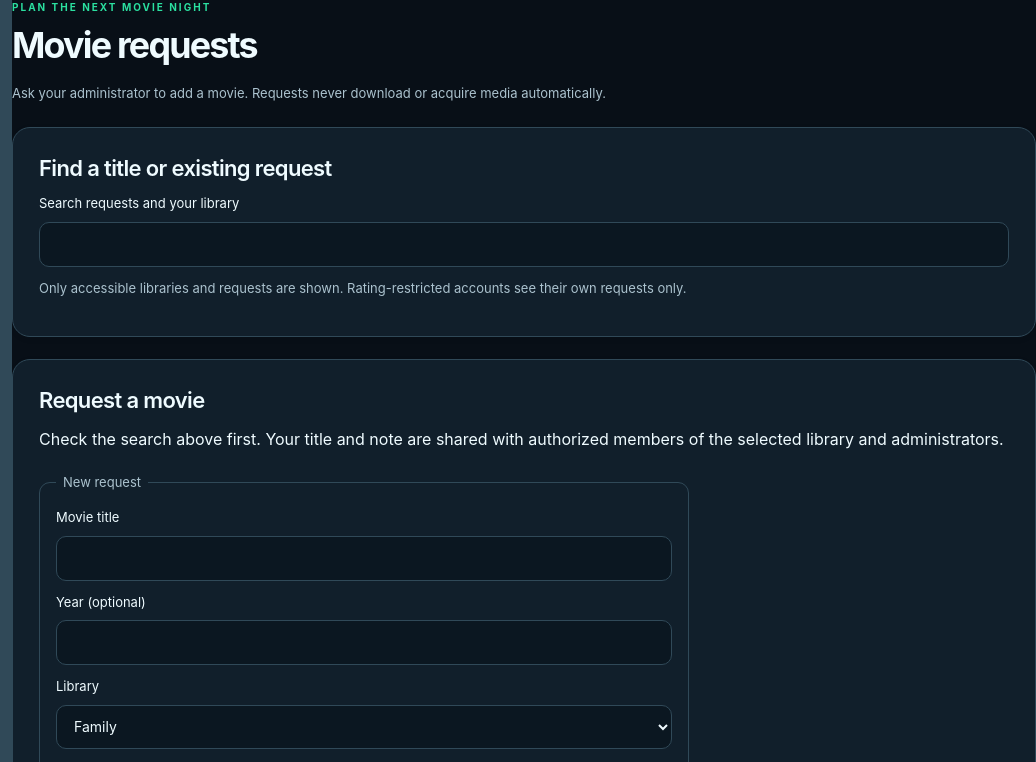
Scenario: submits a real request with scoped library and optional fields
Type "Another movie" into the field labelled "Movie title" at (364, 558), box [56, 536, 672, 581]
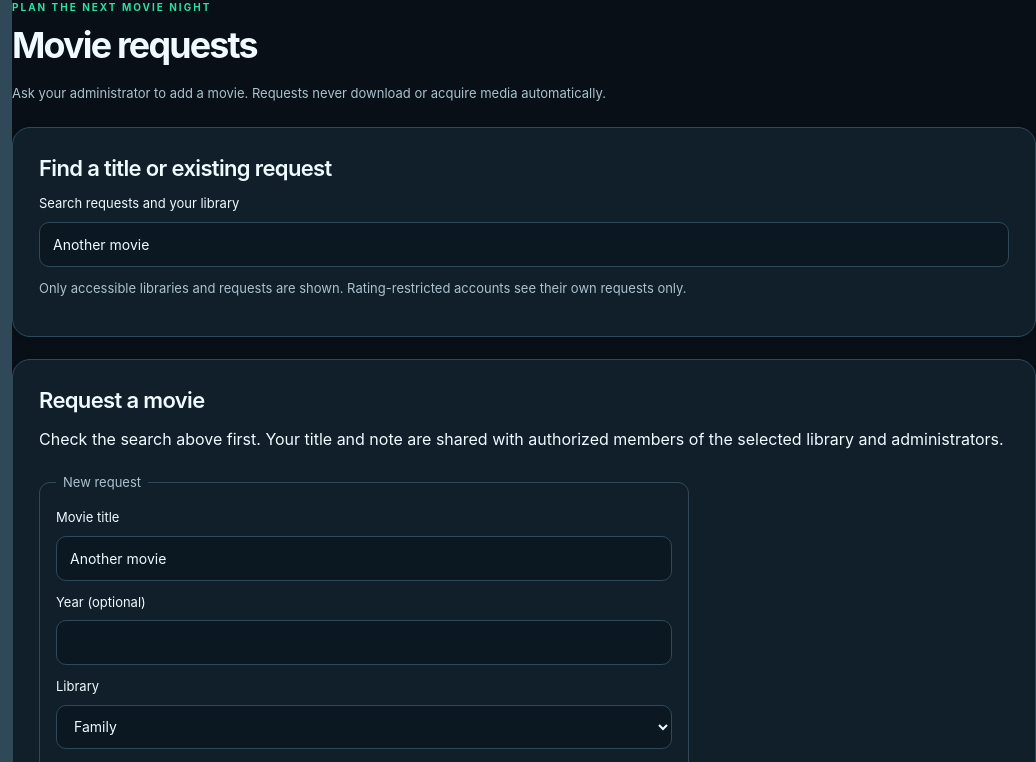
Type "2025" into the number field labelled "Year (optional)" at (364, 643), box [56, 620, 672, 666]
(page scrolled)
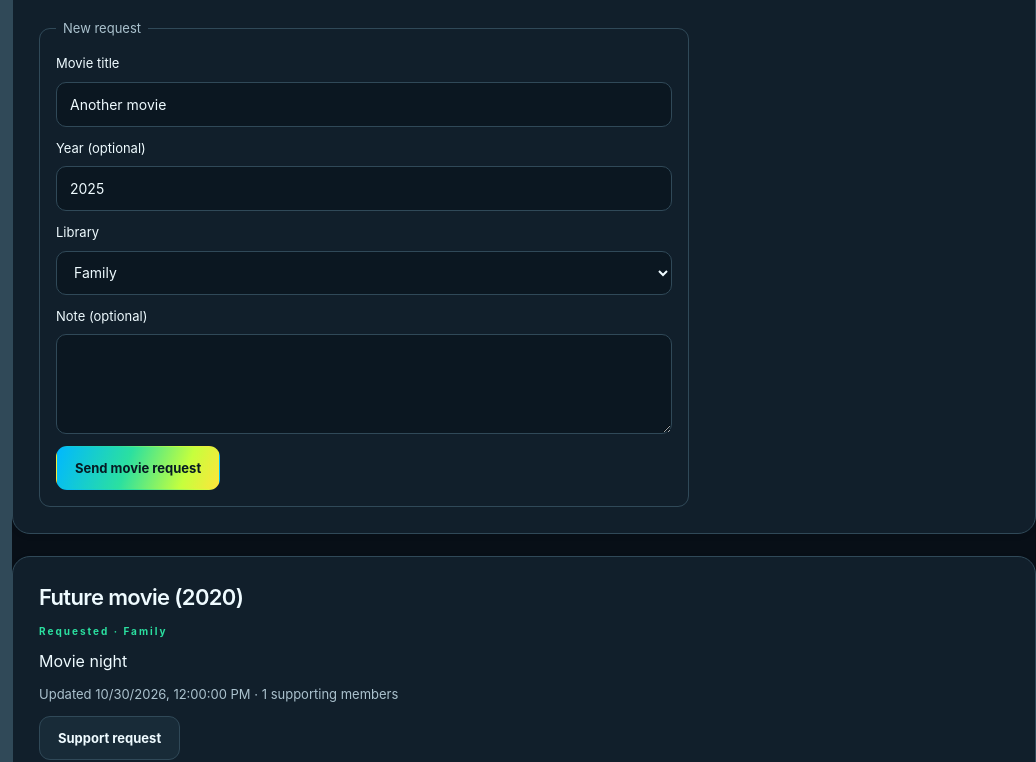
Type "For Friday" into the text box labelled "Note (optional)" at (364, 384), box [56, 334, 672, 434]
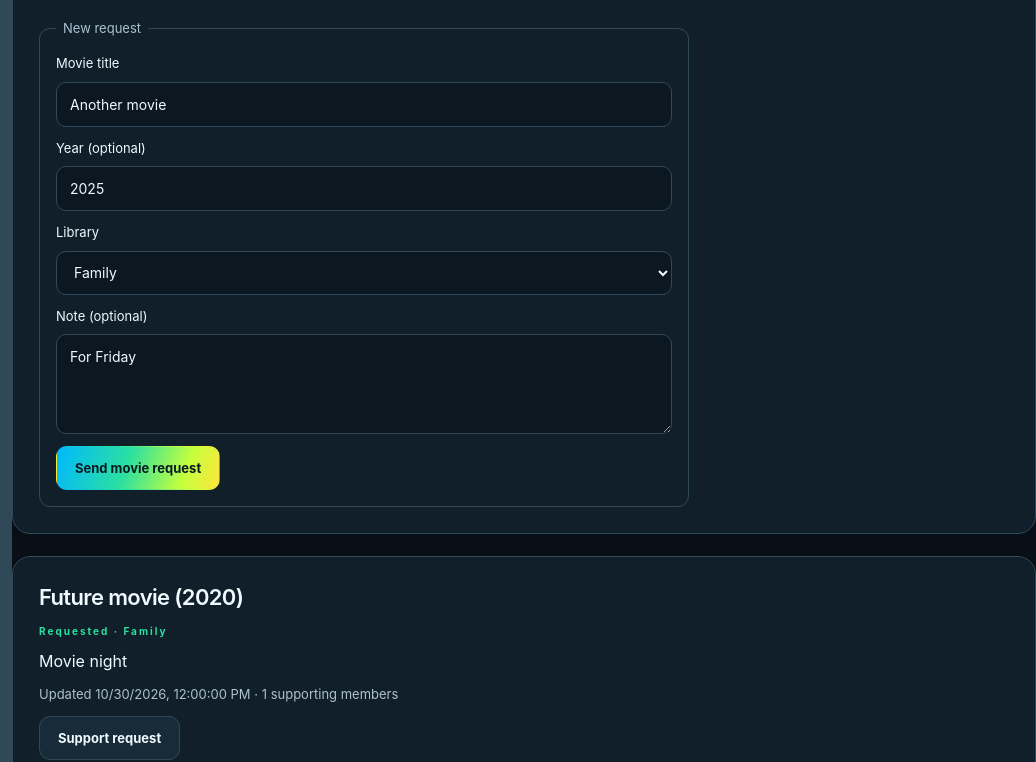
Click the button "Send movie request" at (138, 468), box [56, 446, 220, 490]
(page scrolled)
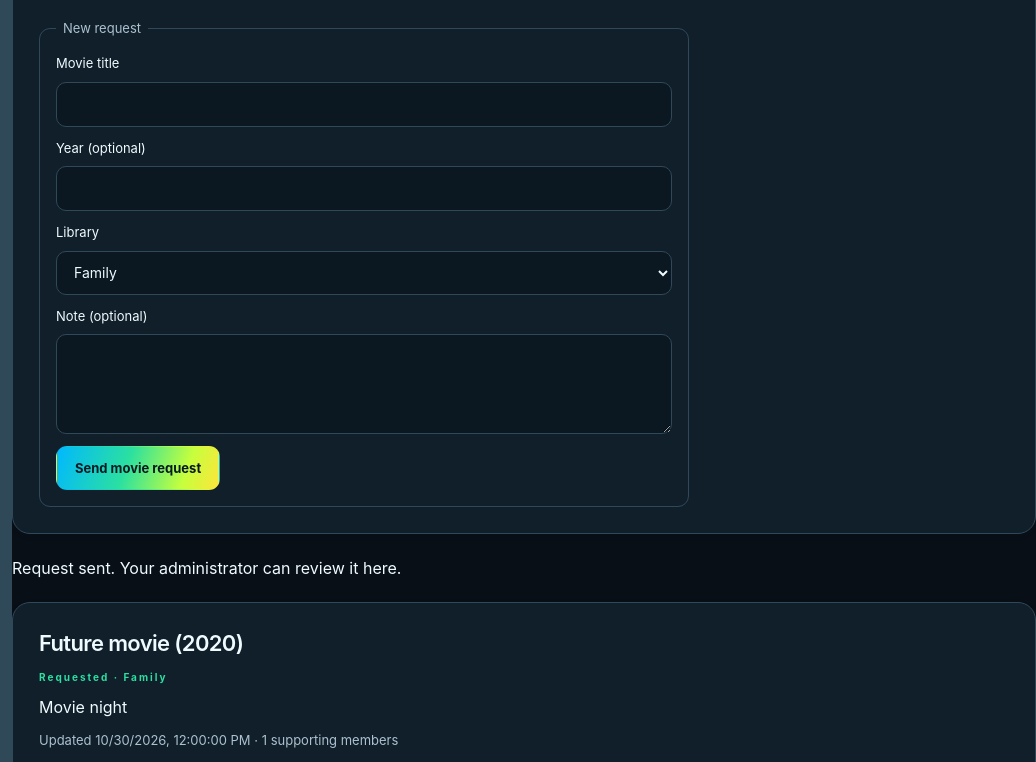
Now the text "Request sent. Your administrator can review it here." is shown, box [12, 558, 401, 578]
